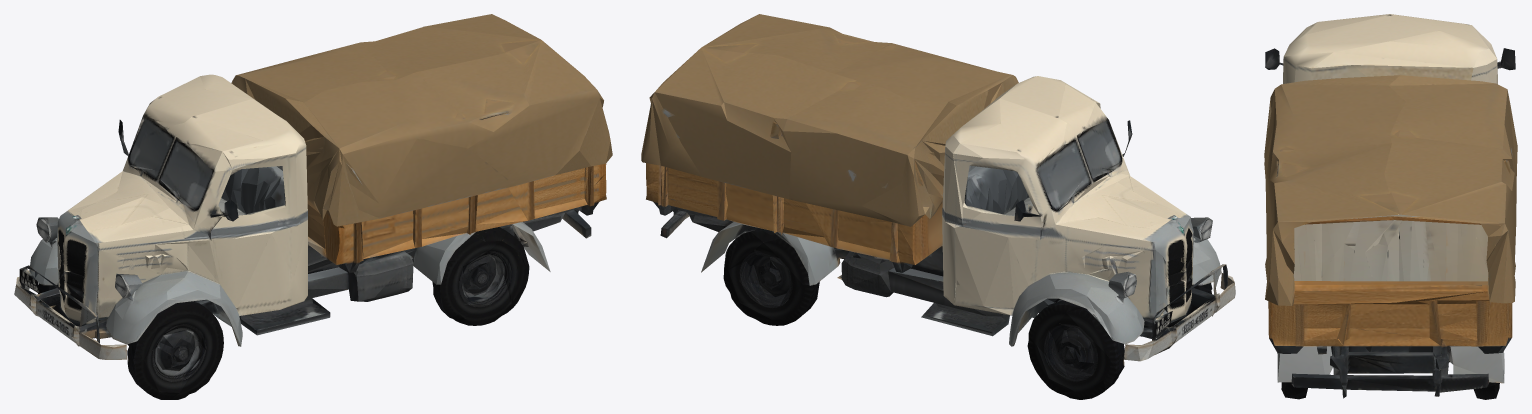
The model's file is lorry.glb.
The picture shows the model from 3 angles, left to right: view 1: azimuth 30°, elevation 25°; view 2: azimuth 150°, elevation 25°; view 3: azimuth 270°, elevation 25°; orthographic projection. The views are drawn at different scales.
Size of the model in its own units: 1.9 by 0.8435 by 0.7583.
Materials: 1 (1 with a texture image).
